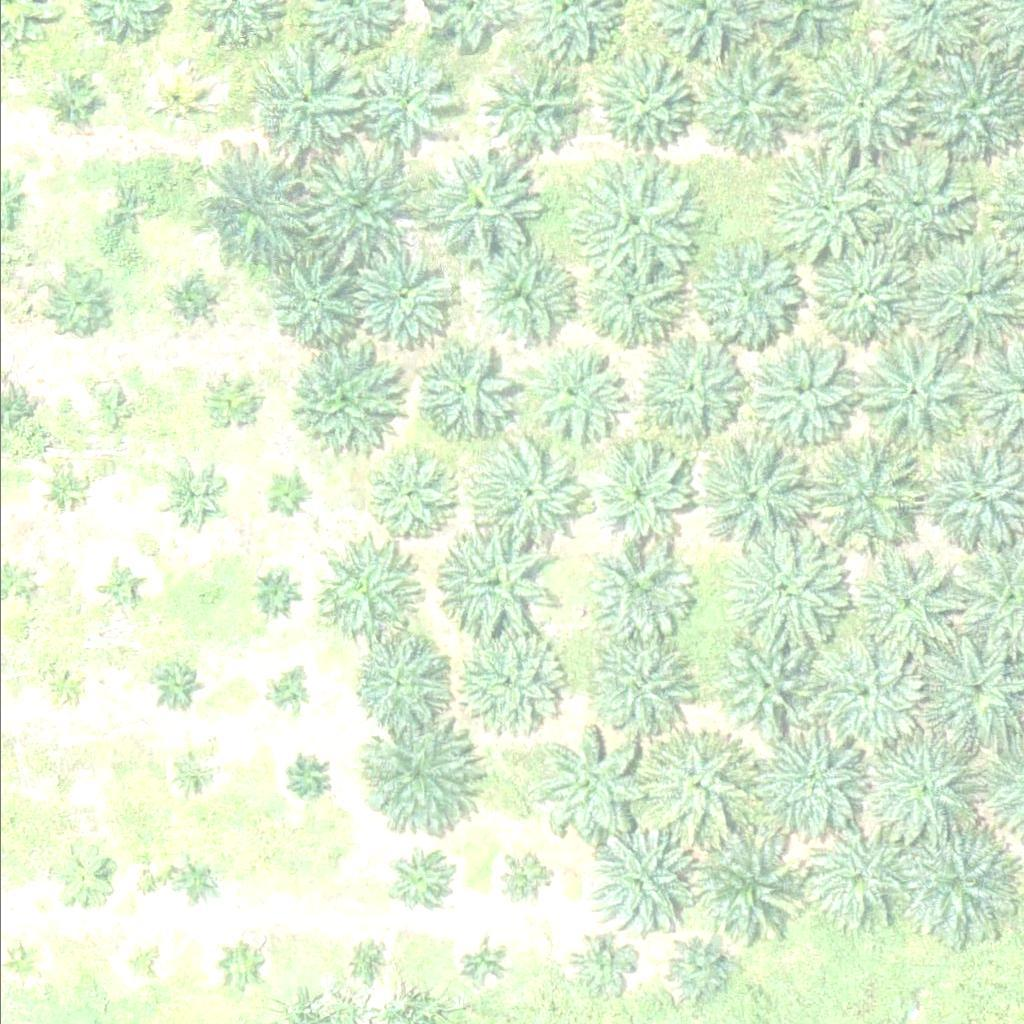Kelapa_Sawit: (797, 40, 923, 165), (752, 148, 878, 273), (850, 141, 976, 266), (802, 231, 928, 356), (681, 227, 807, 352), (731, 329, 857, 454), (848, 329, 974, 454), (801, 435, 927, 560), (685, 434, 811, 559), (789, 630, 915, 755), (738, 717, 864, 842), (852, 725, 978, 850), (890, 818, 1016, 943), (670, 829, 796, 954), (431, 523, 557, 648), (465, 431, 591, 556), (570, 156, 696, 281), (300, 141, 426, 266), (189, 149, 315, 274), (719, 530, 844, 655), (351, 719, 476, 844), (281, 340, 395, 453), (536, 731, 649, 844), (450, 620, 563, 733), (244, 49, 357, 162), (351, 241, 465, 353), (431, 151, 545, 263), (683, 45, 796, 157), (576, 828, 689, 940), (641, 732, 754, 844), (300, 529, 413, 641), (852, 555, 953, 655), (800, 829, 901, 929), (351, 630, 452, 730), (586, 636, 687, 736), (587, 535, 688, 635), (584, 445, 685, 545), (357, 444, 458, 544), (637, 333, 738, 433), (521, 345, 622, 445), (588, 247, 689, 347), (355, 53, 456, 153), (413, 337, 513, 437), (474, 250, 574, 350), (594, 50, 694, 150), (486, 59, 586, 159), (266, 259, 354, 347), (716, 640, 805, 727), (385, 843, 460, 918), (152, 461, 215, 524), (198, 367, 261, 430), (570, 930, 633, 993), (668, 940, 731, 1003), (81, 378, 144, 441), (43, 271, 106, 333), (51, 848, 114, 910), (94, 175, 157, 237), (492, 857, 543, 907), (42, 464, 93, 514), (164, 268, 215, 318), (48, 78, 98, 128), (250, 568, 300, 618), (152, 662, 202, 712), (173, 858, 223, 908), (255, 469, 305, 519), (148, 79, 198, 129), (220, 952, 258, 990), (292, 759, 330, 797), (119, 945, 157, 983), (46, 667, 84, 705), (101, 570, 139, 608), (266, 676, 304, 713), (168, 753, 206, 790), (39, 765, 77, 802), (459, 943, 496, 980), (349, 947, 386, 984)
